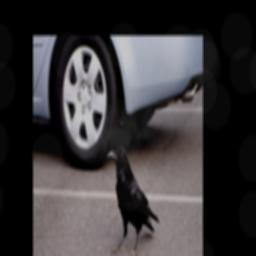Crow: (107, 143, 160, 255)
